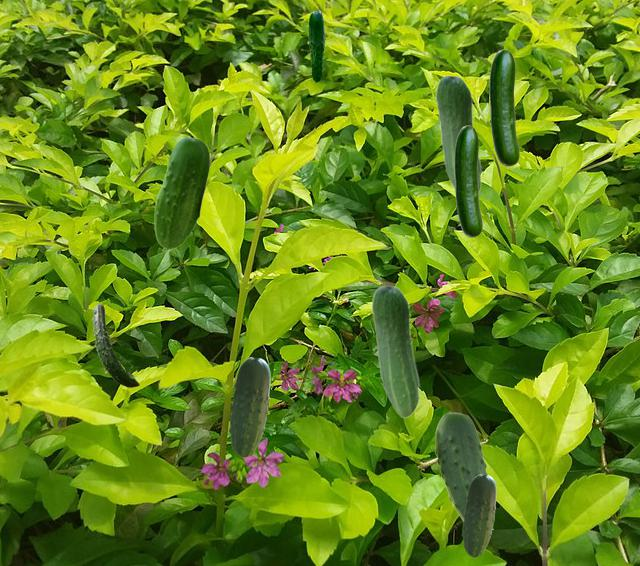cucumber: (371, 284, 419, 417), (154, 137, 208, 248), (435, 412, 487, 521), (435, 74, 481, 191), (229, 357, 269, 456), (92, 304, 138, 386), (489, 49, 518, 165), (454, 125, 481, 236), (462, 474, 495, 556), (308, 10, 324, 81)
